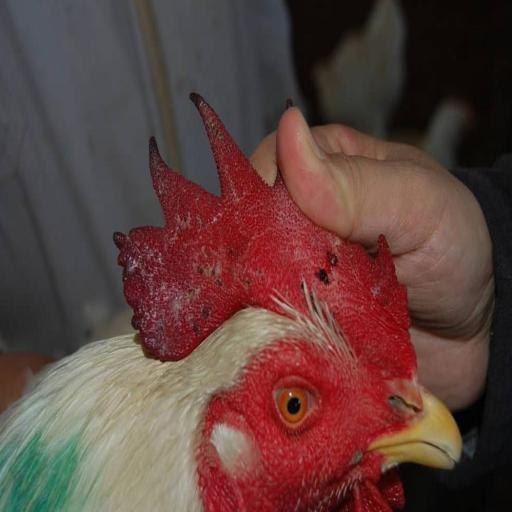disease: (114, 232, 267, 354), (173, 197, 306, 232), (292, 229, 346, 299)
